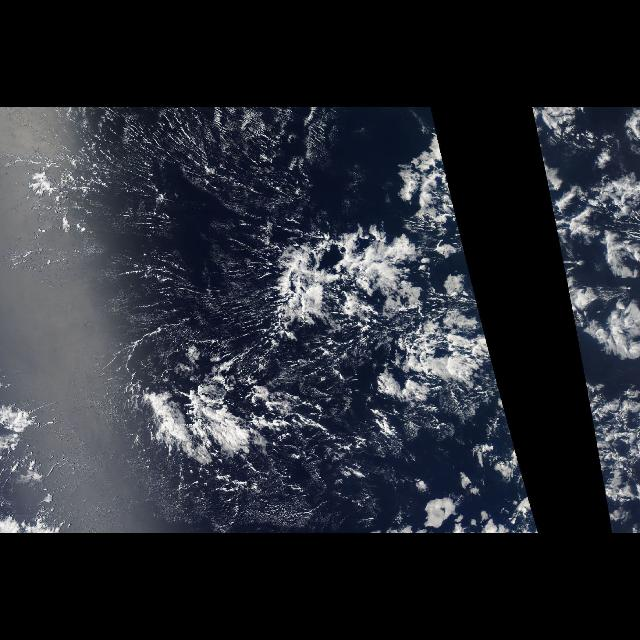Flower: (125, 110, 541, 532), (532, 110, 638, 532)
Gravel: (105, 252, 471, 472)
Sugar: (52, 108, 358, 364)
